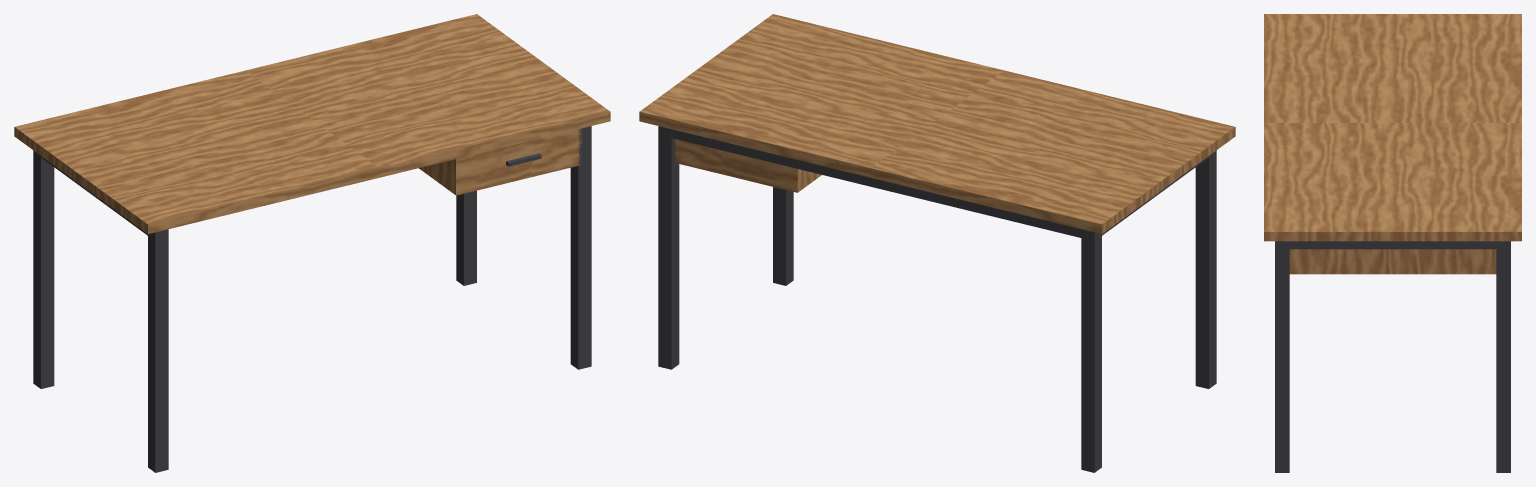
3 renders of one model, left to right at view 1: azimuth 30°, elevation 25°; view 2: azimuth 150°, elevation 25°; view 3: azimuth 270°, elevation 25°, orthographic. The views are drawn at different scales.
Visible parts, largest first — view 1: Desk, oak and steel; view 2: Desk, oak and steel; view 3: Desk, oak and steel.
Part boxes in pixels (bbox=[...]): Desk, oak and steel: bbox=[14, 14, 610, 472]; Desk, oak and steel: bbox=[639, 14, 1235, 472]; Desk, oak and steel: bbox=[1264, 14, 1521, 472].
Size of the model in its own units: 1.4 by 0.74 by 0.7.
Materials: 2 (1 with a texture image).
